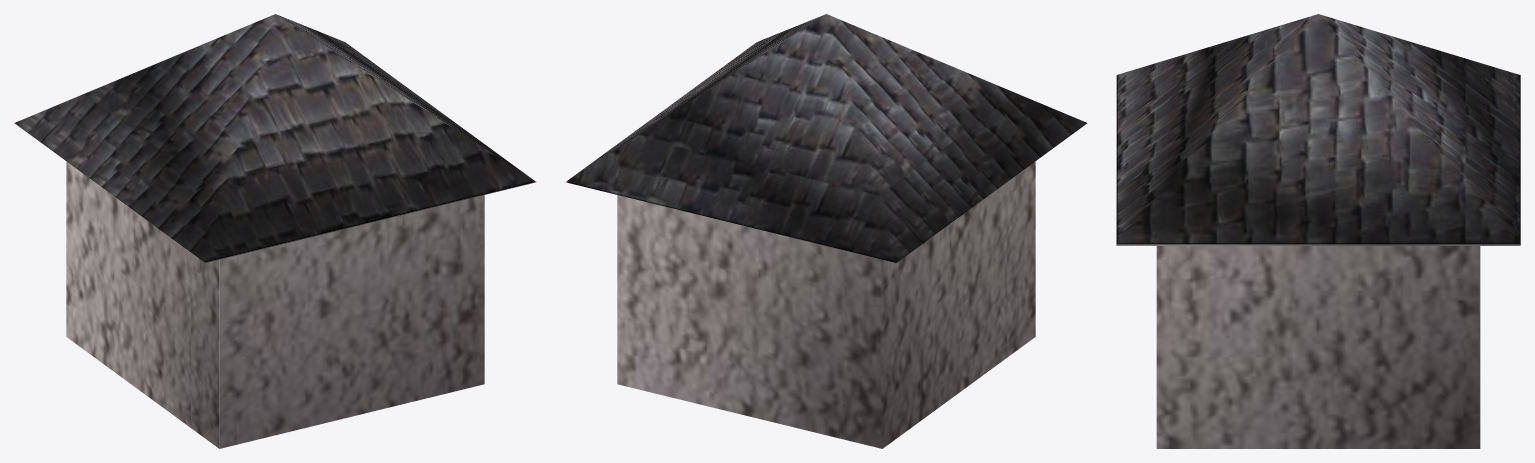
Rendered from Dwelling.fbx.
The picture shows the model from 3 angles, left to right: view 1: azimuth 30°, elevation 25°; view 2: azimuth 150°, elevation 25°; view 3: azimuth 270°, elevation 25°; orthographic projection. The views are drawn at different scales.
Parts seen in each view (by area): view 1: Cube; view 2: Cube; view 3: Cube.
Boxes of the visible parts, left/top/right/bottom form: Cube: left=14, top=14, right=536, bottom=448; Cube: left=565, top=14, right=1087, bottom=448; Cube: left=1116, top=14, right=1520, bottom=448.
Bounding box in the file's own units: 1 × 1 × 1.
Materials: 1 (1 with a texture image).
